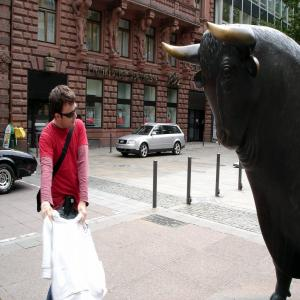Vehicle-registration-plate: (119, 145, 125, 150)
